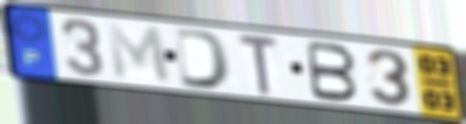3: (59, 16, 108, 80), (363, 47, 412, 108)
B: (305, 39, 361, 104)
D: (172, 26, 234, 92)
M: (104, 20, 174, 86)
T: (235, 32, 283, 98)
